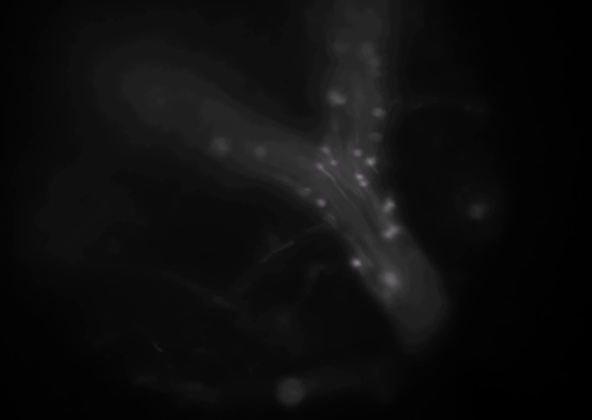cell: (371, 105, 385, 119), (351, 146, 365, 160), (364, 155, 378, 169), (320, 143, 334, 157), (312, 159, 326, 173), (325, 155, 339, 169), (327, 90, 341, 104), (353, 170, 367, 184), (337, 92, 351, 106), (358, 177, 372, 191), (347, 255, 361, 269), (381, 272, 395, 286), (380, 227, 394, 241), (385, 197, 399, 211), (386, 224, 400, 238), (380, 203, 394, 217), (315, 197, 329, 211), (299, 184, 313, 198), (254, 145, 268, 159), (212, 139, 226, 153), (360, 43, 374, 57), (370, 53, 384, 67), (335, 42, 349, 56), (371, 129, 385, 143), (327, 93, 341, 107)
